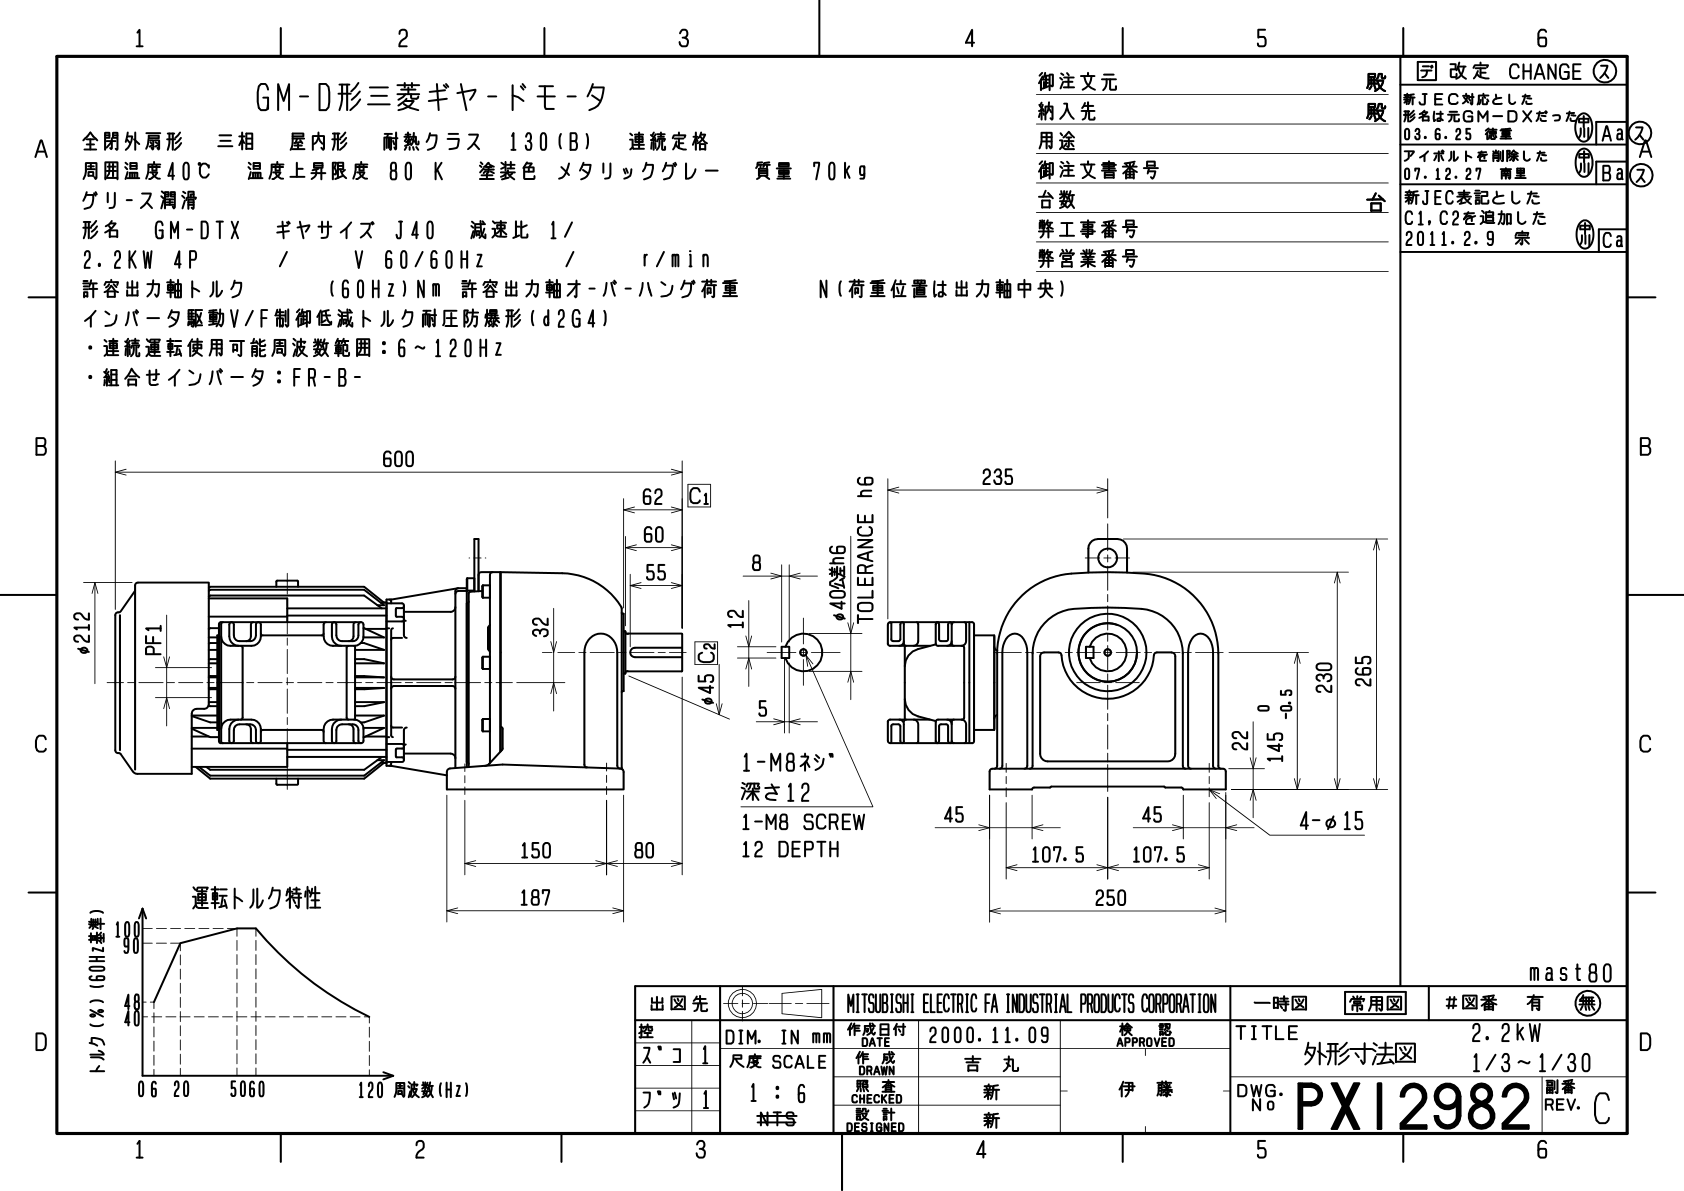GM_D_VF制御屋内_三相_脚: (64, 420, 1389, 971)
